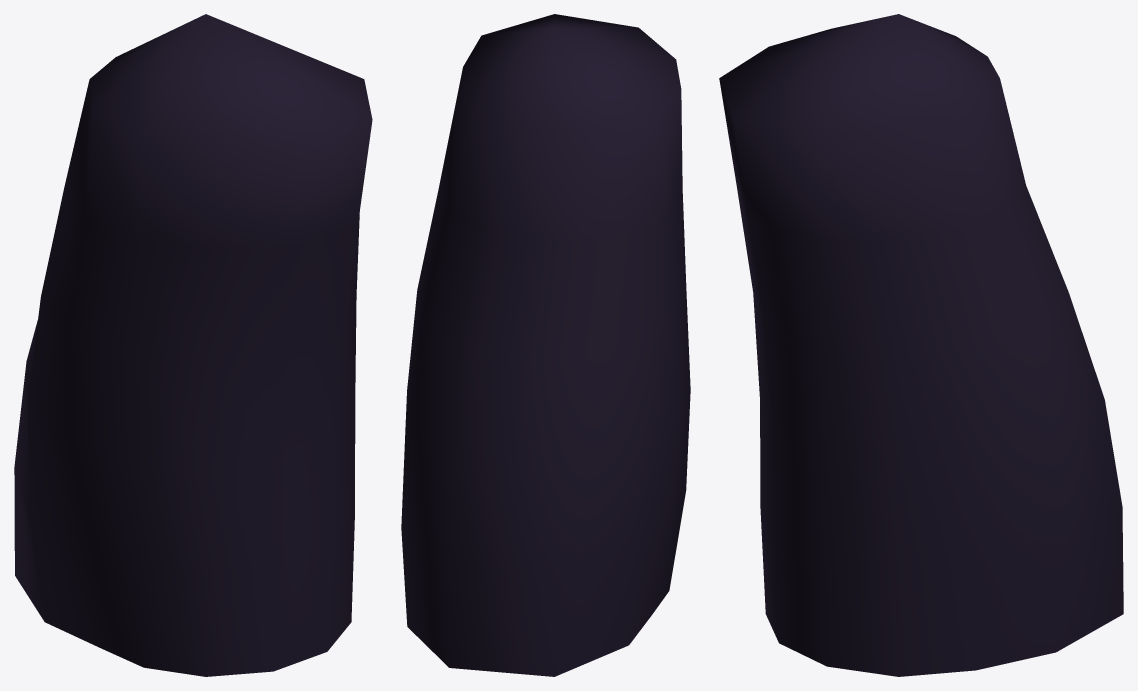
Rendered from witch_costume_boot.L.glb.
3 views of the same model, side by side, from view 1: azimuth 30°, elevation 25°; view 2: azimuth 150°, elevation 25°; view 3: azimuth 270°, elevation 25° (orthographic). The views are drawn at different scales.
Visible parts, largest first — view 1: witch_costume_boot.L; view 2: witch_costume_boot.L; view 3: witch_costume_boot.L.
Part boxes in pixels (x1,y1,x2,y2): witch_costume_boot.L: (14, 14, 372, 676); witch_costume_boot.L: (401, 14, 690, 676); witch_costume_boot.L: (719, 14, 1123, 676).
Size of the model in its own units: 0.1318 by 0.288 by 0.1759.
